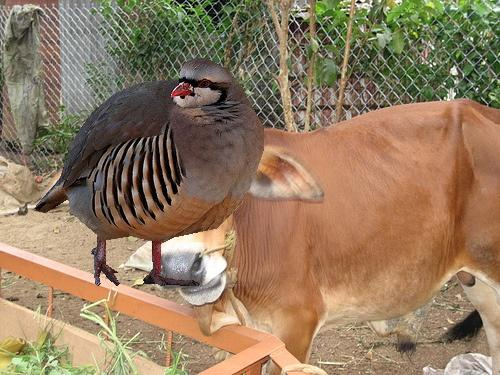tampered: (35, 59, 264, 286)
